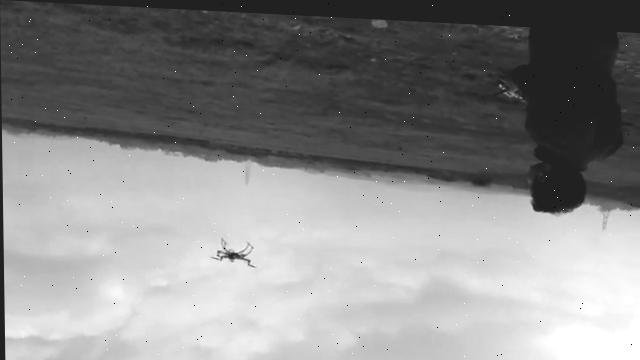drone: (209, 234, 257, 268)
